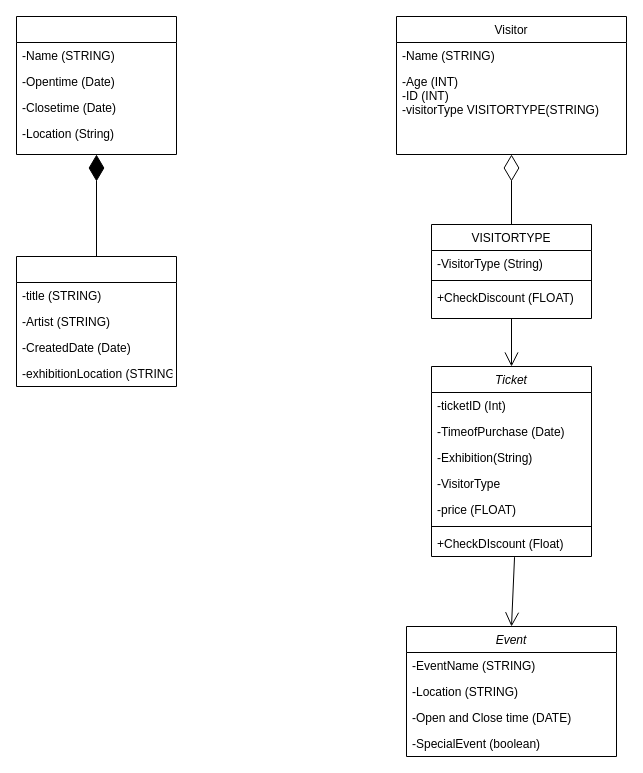
Image size: 643x773. Some labels were removed from this diagram. Each missing label, with the box of its shape:
Artwork: (16, 256, 176, 386)
Exhibition: (16, 16, 176, 154)
